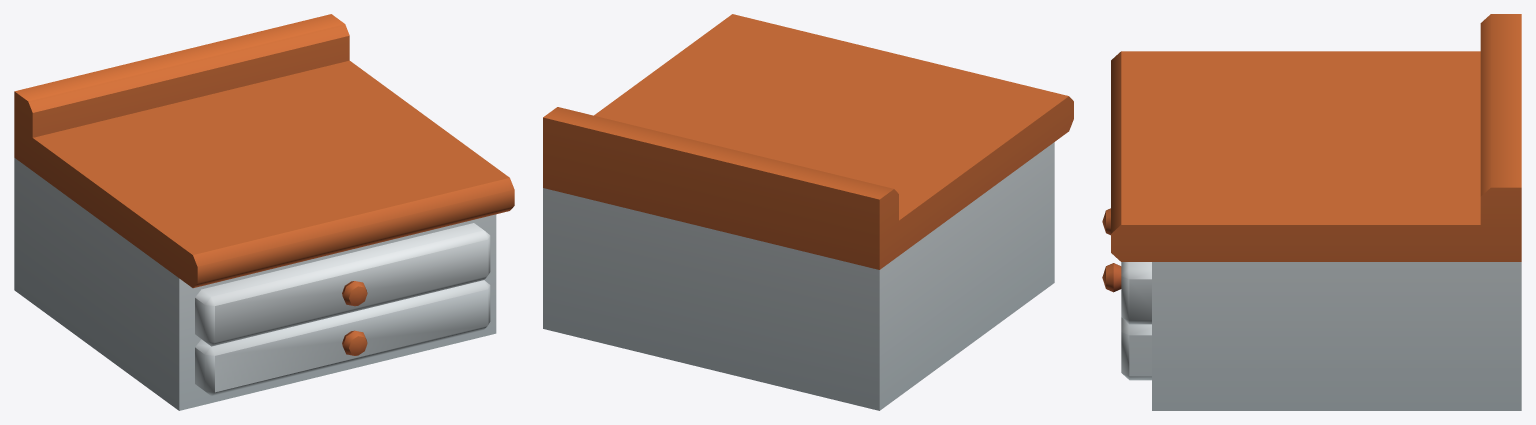
The model's file is deco1.glb.
3 views of the same model, side by side, from view 1: azimuth 30°, elevation 25°; view 2: azimuth 150°, elevation 25°; view 3: azimuth 270°, elevation 25° (orthographic). The views are drawn at different scales.
Visible parts, largest first — view 1: kitchencounter_straight_A_backsplash; view 2: kitchencounter_straight_A_backsplash; view 3: kitchencounter_straight_A_backsplash.
Boxes of the visible parts, <box> form: kitchencounter_straight_A_backsplash: <box>14,14,514,410</box>; kitchencounter_straight_A_backsplash: <box>543,14,1073,410</box>; kitchencounter_straight_A_backsplash: <box>1102,14,1521,410</box>.
Size of the model in its own units: 2 by 1.2 by 2.04.
Materials: 1 (1 with a texture image).
